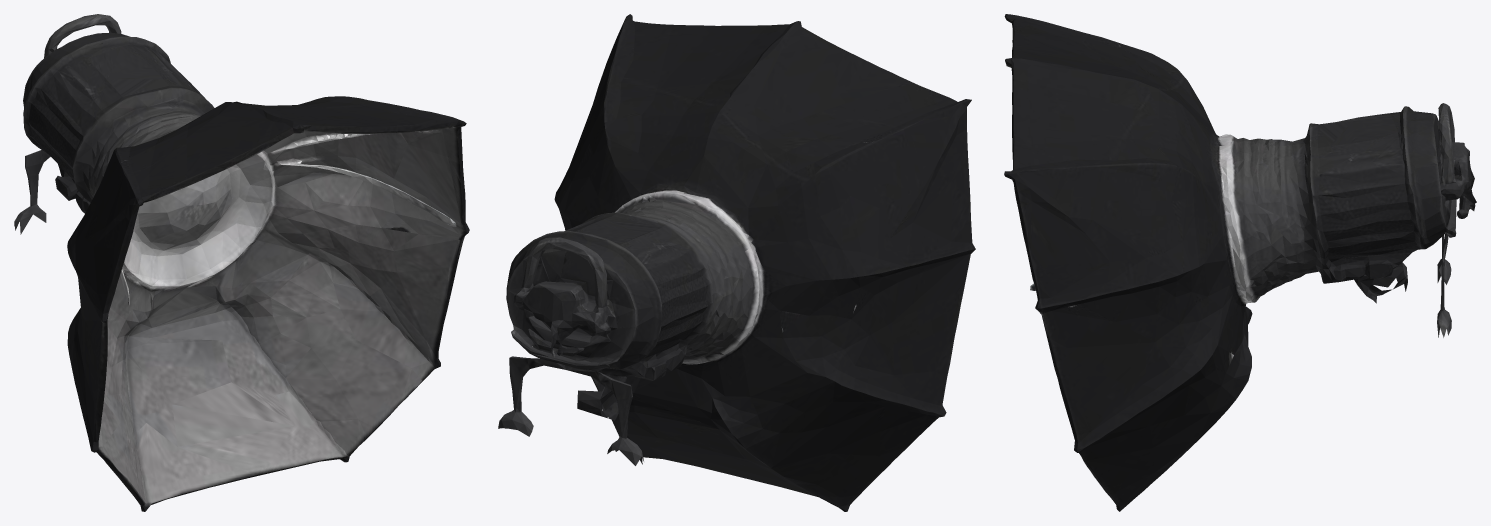
Rendered from LightHead.obj.
3 views of the same model, side by side, from view 1: azimuth 30°, elevation 25°; view 2: azimuth 150°, elevation 25°; view 3: azimuth 270°, elevation 25° (orthographic). The views are drawn at different scales.
Size of the model in its own units: 58.9 by 61.57 by 65.36.
1 material, 1 textured.
